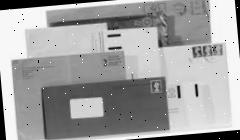paper: (9, 49, 130, 140), (25, 18, 162, 87), (44, 0, 211, 56), (40, 75, 169, 140), (162, 42, 232, 132), (143, 0, 212, 48), (102, 26, 162, 80), (24, 21, 108, 58), (68, 51, 125, 84), (68, 95, 104, 119)
